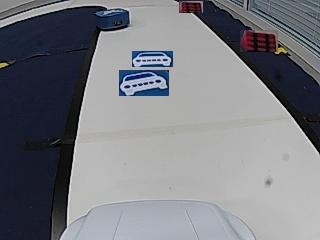prop: (96, 8, 129, 31)
